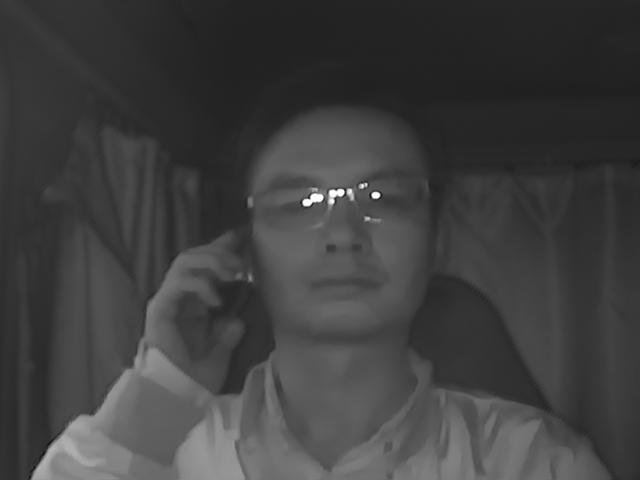hand: (151, 232, 245, 386)
